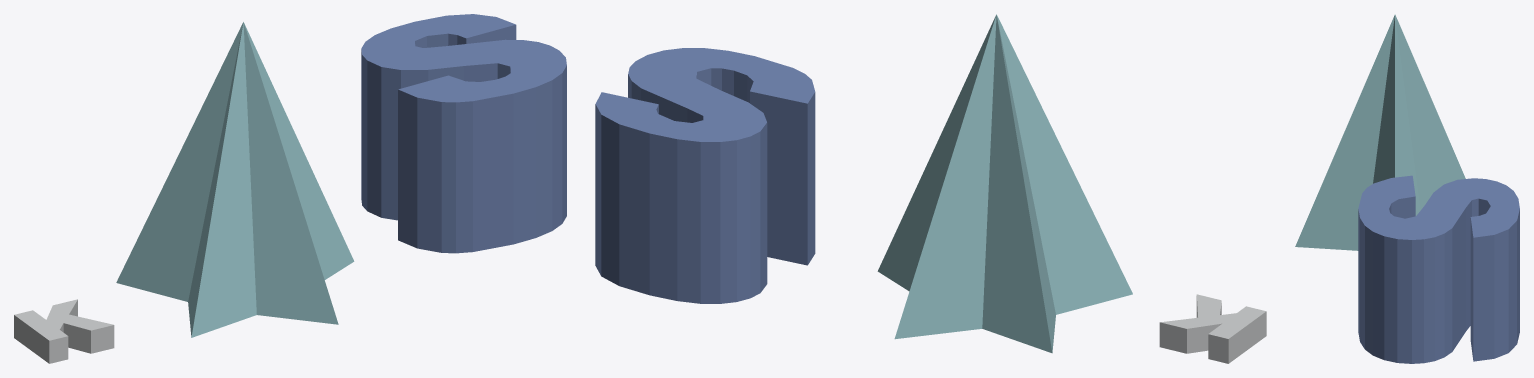
The model's file is names2.glb.
3 views of the same model, side by side, from view 1: azimuth 30°, elevation 25°; view 2: azimuth 150°, elevation 25°; view 3: azimuth 270°, elevation 25° (orthographic). The views are drawn at different scales.
Visible parts, largest first — view 1: Mesh_Mesh_head_geo.001_lambert2SG.001; view 2: Mesh_Mesh_head_geo.001_lambert2SG.001; view 3: Mesh_Mesh_head_geo.001_lambert2SG.001.
Part boxes in pixels (left/top/right/bottom): Mesh_Mesh_head_geo.001_lambert2SG.001: left=14, top=14, right=566, bottom=363; Mesh_Mesh_head_geo.001_lambert2SG.001: left=595, top=14, right=1266, bottom=363; Mesh_Mesh_head_geo.001_lambert2SG.001: left=1295, top=14, right=1519, bottom=363.
Size of the model in its own units: 0.099 by 0.046 by 0.0428.
